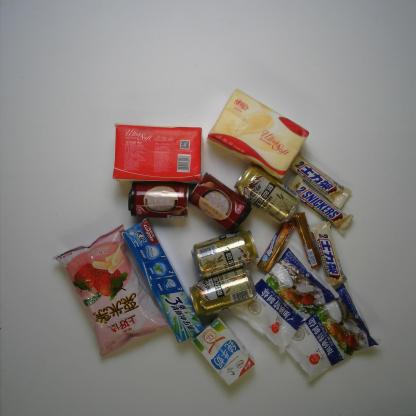Alcohol: (234, 163, 301, 224), (191, 230, 259, 279), (189, 268, 257, 317)
Candy: (256, 218, 296, 271), (293, 212, 322, 268)
Canned Food: (188, 172, 252, 233), (128, 180, 190, 218)
Chocolate: (287, 174, 353, 234), (287, 150, 352, 209), (308, 220, 347, 289)
Milk: (192, 314, 256, 386)
Personal Hygiene: (122, 218, 206, 343)
Puffed Food: (52, 223, 169, 357)
Seasoner: (228, 244, 340, 356), (266, 282, 380, 382)
Tissue: (206, 89, 310, 181), (112, 122, 203, 186)
